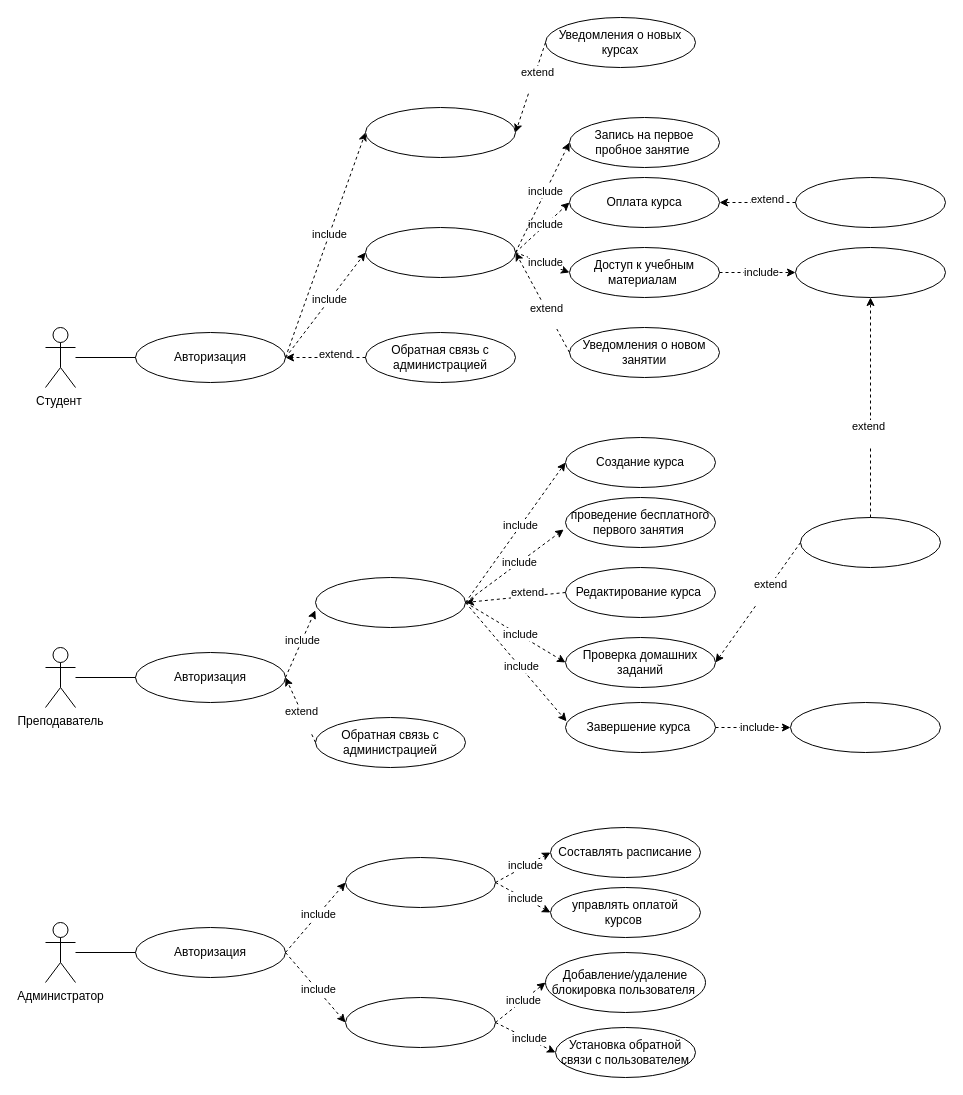
Some shapes in this 963 by 1095 pixel diagram are drawn without their labels. The centre of each missing label's shape, as x and y in pixels:
"Выдача сертификата" belongs at pixel 865 727.
"Выполнение домашних заданий" belongs at pixel 870 272.
"Запись на курс" belongs at pixel 440 252.
"Общение через чат" belongs at pixel 870 542.
"Проверка платежа" belongs at pixel 870 202.
"Просмотр возможных курсов" belongs at pixel 440 132.
"Управление курсами" belongs at pixel 420 882.
"Управление курсом" belongs at pixel 390 602.
"Управление пользователями" belongs at pixel 420 1022.
